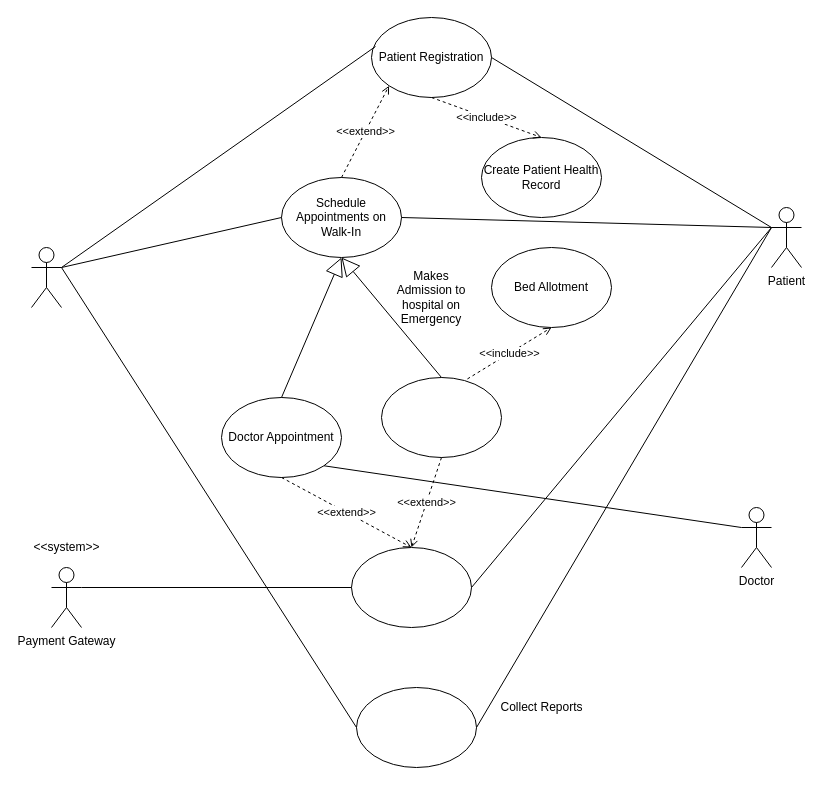
This 822x785 diagram has some shape labels left out. The shapes that lost their labels are listed below. From the top down, each one's centre as x and y in pixels, then its label:
(46,277): Staff
(441,417): Hospital Admission
(411,587): Make Payments
(416,727): File Medical Reports
